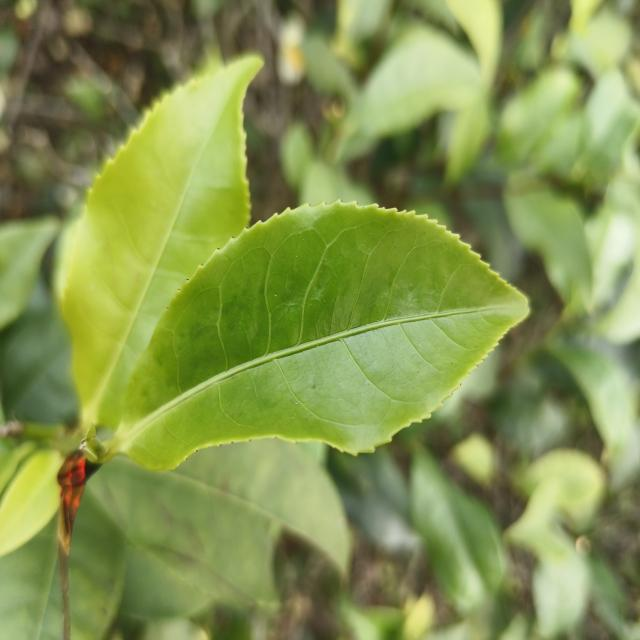Leaf: (112, 201, 526, 469), (63, 55, 262, 427), (118, 440, 349, 601), (410, 450, 505, 613), (347, 26, 481, 138), (505, 179, 592, 307), (552, 345, 635, 461), (69, 496, 125, 640), (0, 514, 63, 640), (0, 216, 60, 331), (0, 450, 62, 556), (533, 539, 590, 638)
